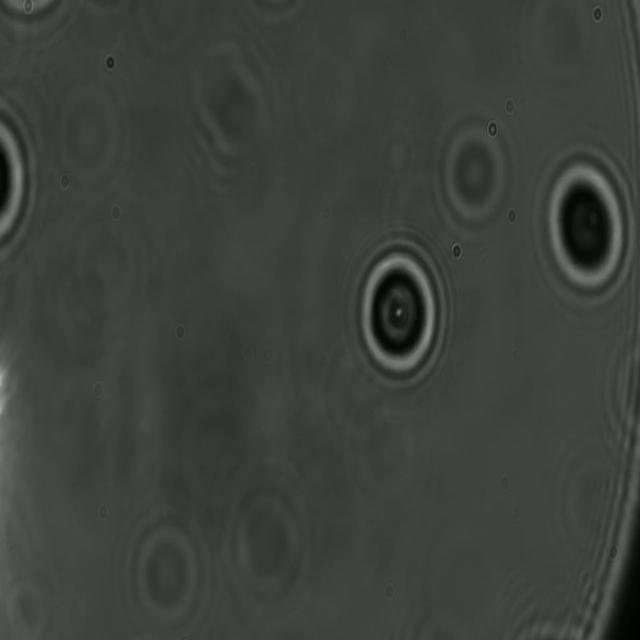LCELL: (348, 234, 449, 394)
